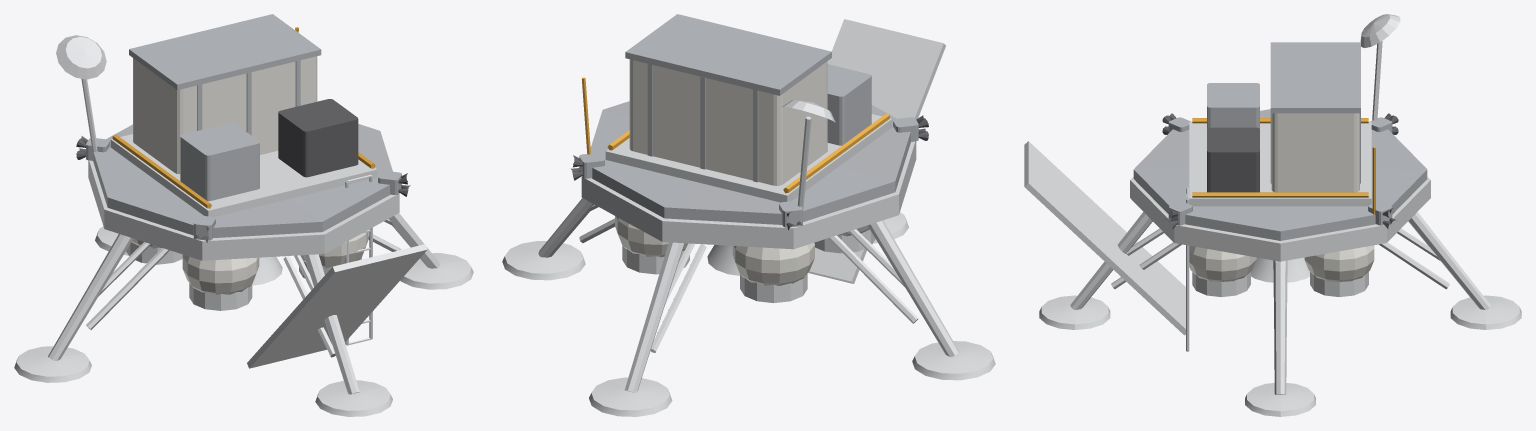
File: cargo-lander-94227716.glb
3 views of the same model, side by side, from view 1: azimuth 30°, elevation 25°; view 2: azimuth 150°, elevation 25°; view 3: azimuth 270°, elevation 25° (orthographic). The views are drawn at different scales.
Parts seen in each view (by area): view 1: cargo-lander, ramp; view 2: cargo-lander, ramp; view 3: cargo-lander, ramp.
Boxes of the visible parts, box(x1,y1,x2,y2) form: cargo-lander: box(14, 14, 473, 416); ramp: box(247, 244, 427, 368); cargo-lander: box(502, 14, 995, 416); ramp: box(808, 19, 945, 283); cargo-lander: box(1039, 14, 1521, 416); ramp: box(1024, 141, 1185, 335).
Bounding box in the file's own units: 8.24 × 4.7 × 8.47.
